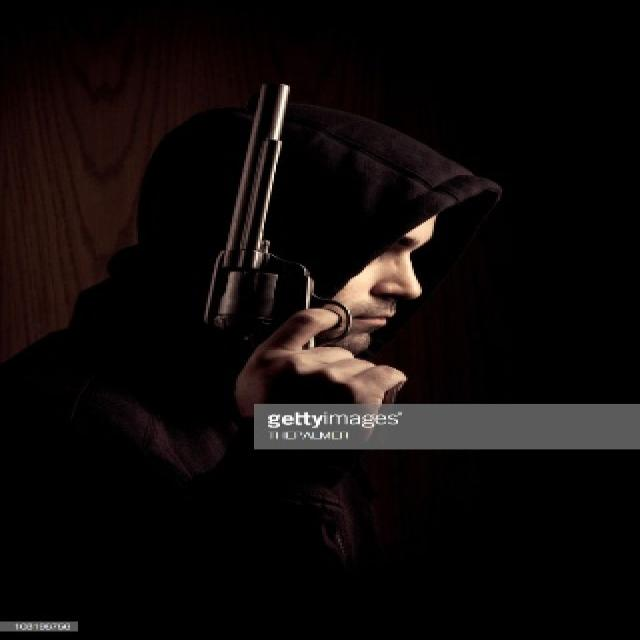handgun: (209, 70, 397, 404)
